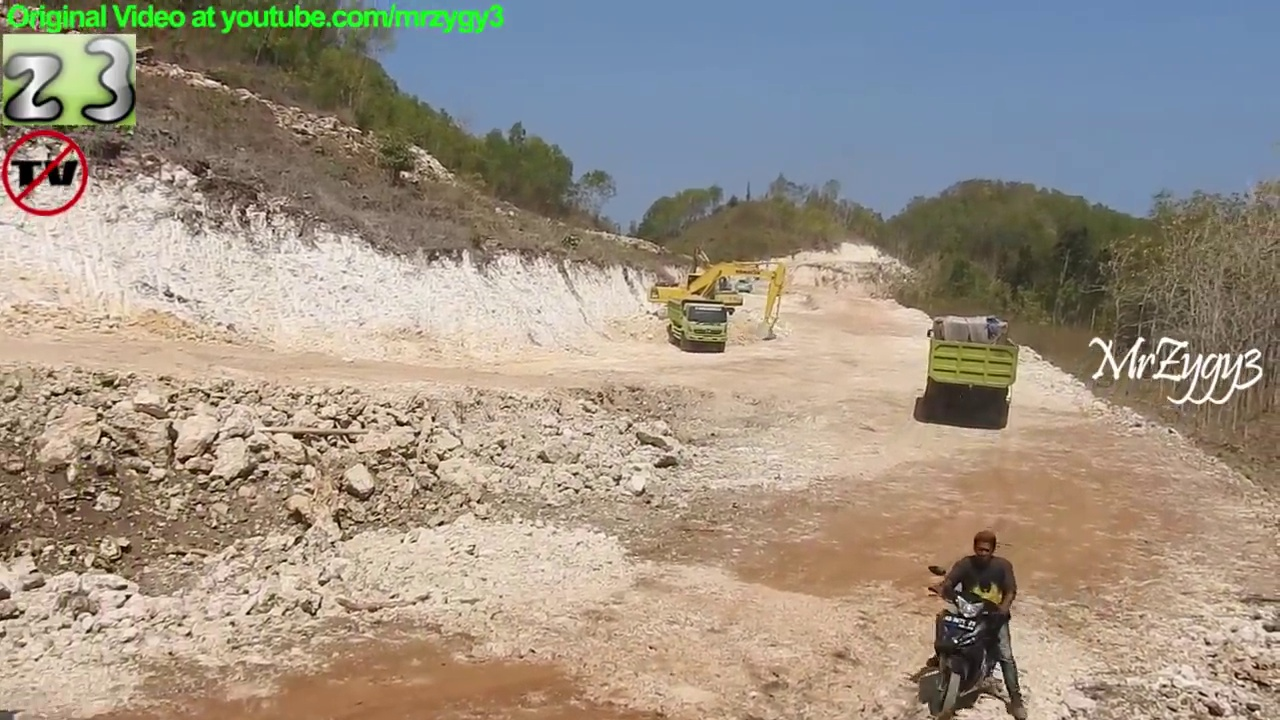excavator: (647, 259, 786, 344), (682, 244, 746, 314), (733, 261, 757, 296)
truck: (924, 312, 1020, 423), (664, 296, 738, 354)
